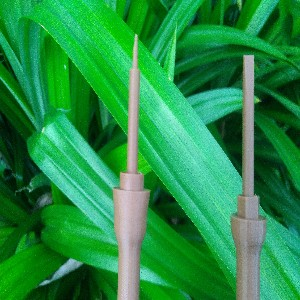obeng: (230, 54, 268, 300)
solder: (112, 33, 151, 300)
